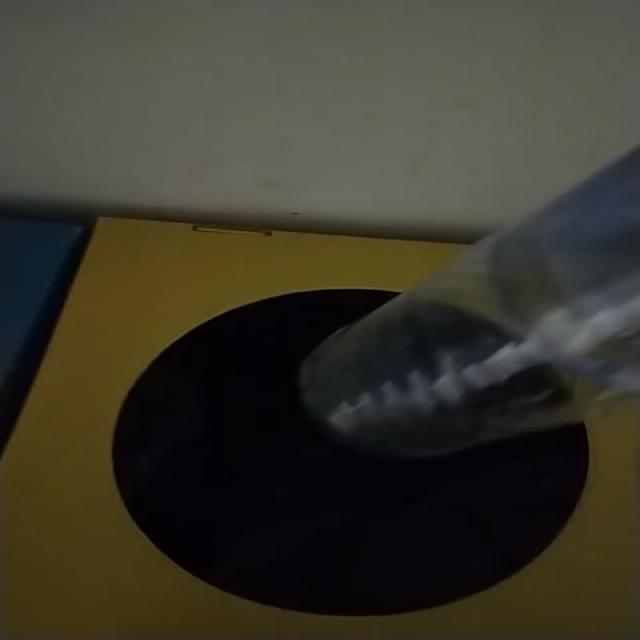plastic: (303, 149, 640, 456)
